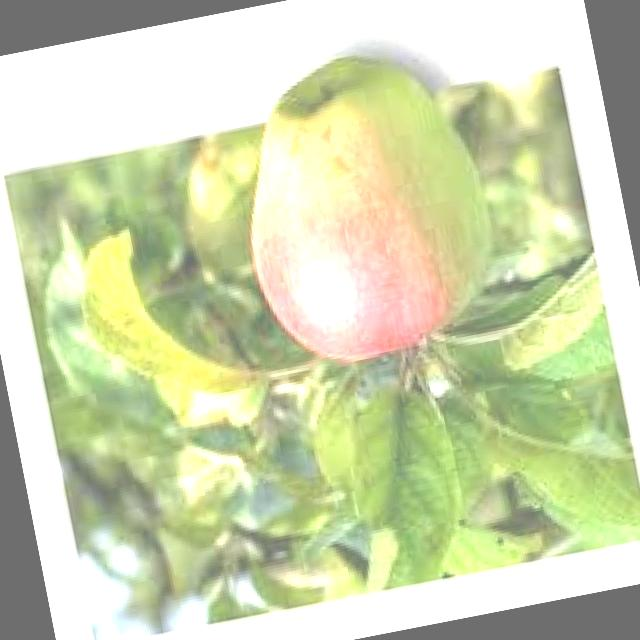Apple: (215, 36, 513, 380)
